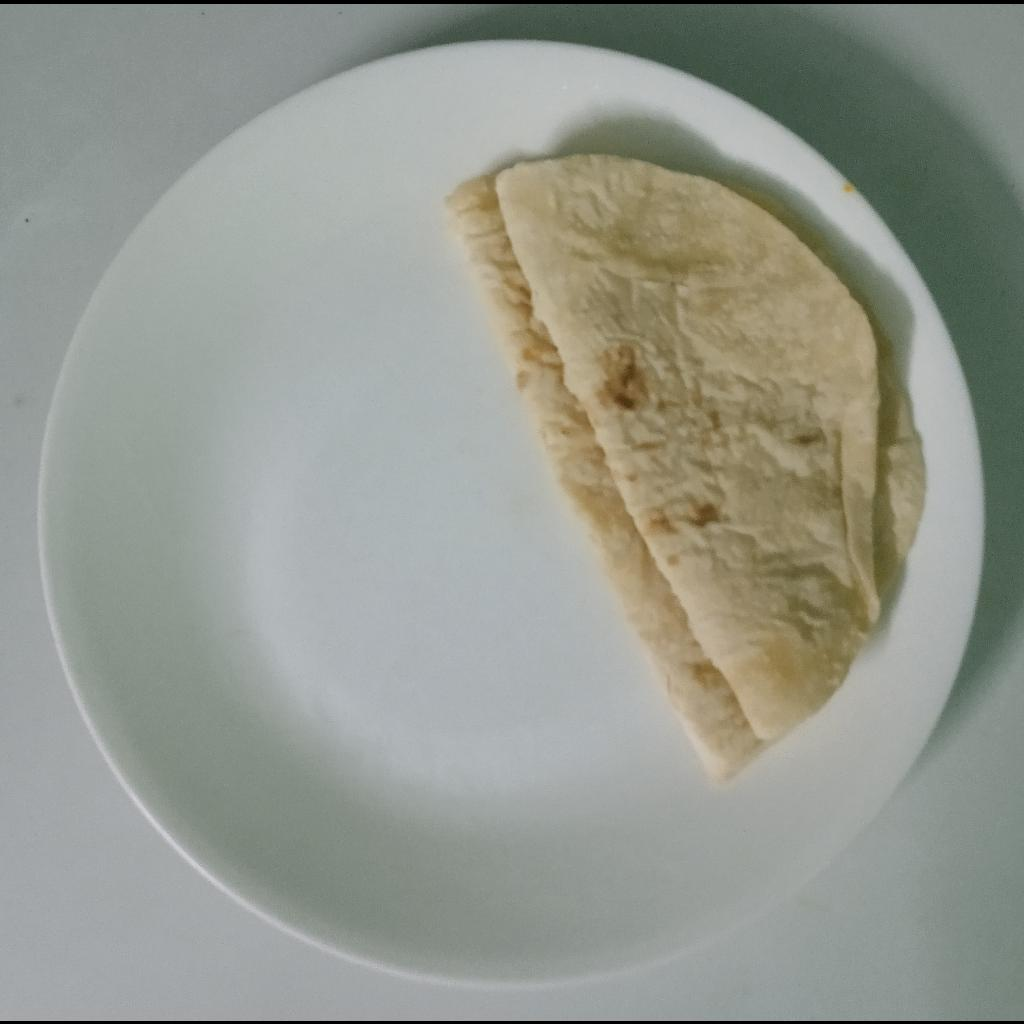ruti: (442, 151, 929, 791)
